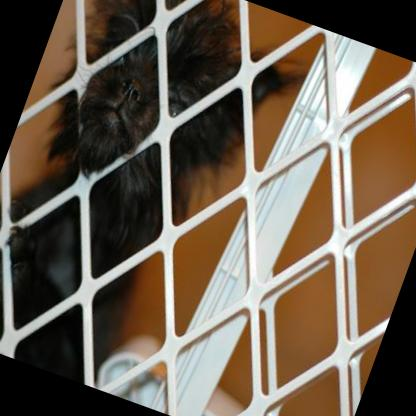affenpinscher: (0, 0, 327, 416)
